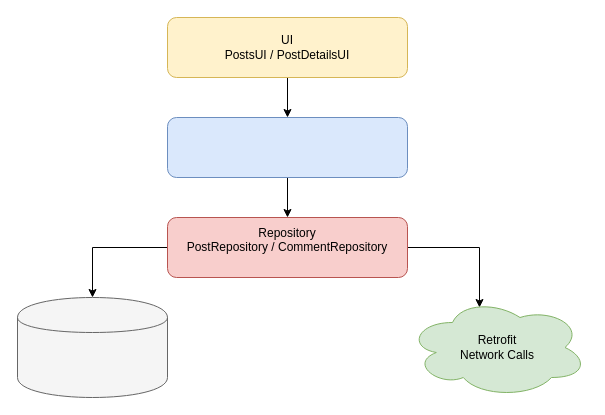
Some shapes in this 605 by 415 pixel diagram are drawn without their labels. The shapes that lost their labels are listed below. From the top down, each one's box as (x1, y1, x2, y2) in pixels, then its label:
(166, 116, 408, 178): Presenter PostsPresenter / postsDetailsPresenter
(16, 296, 168, 398): Room PostDAO / CommentDAO
